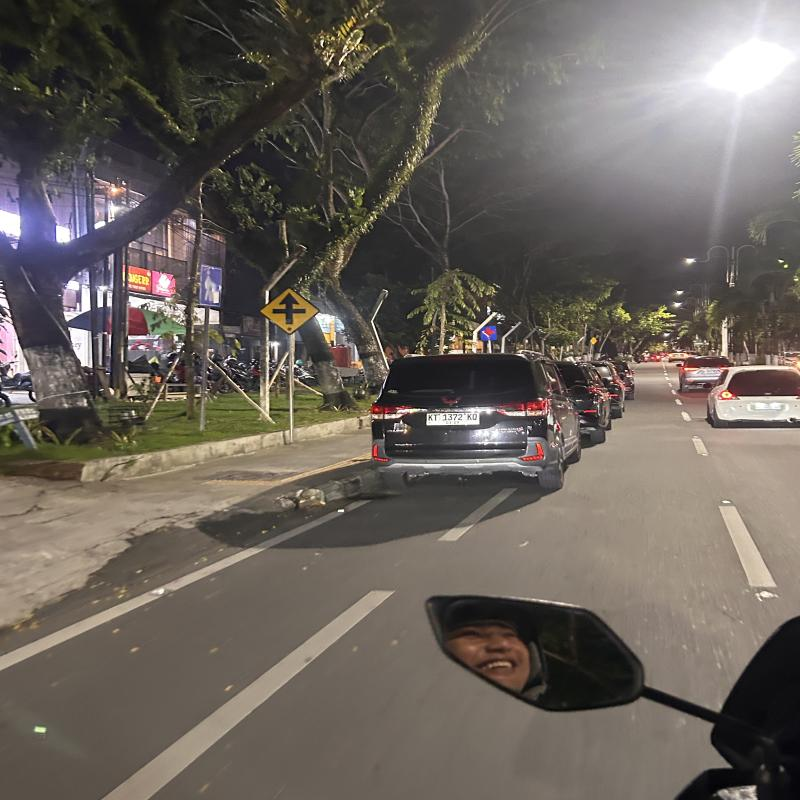license plate on a car: (426, 411, 482, 426)
